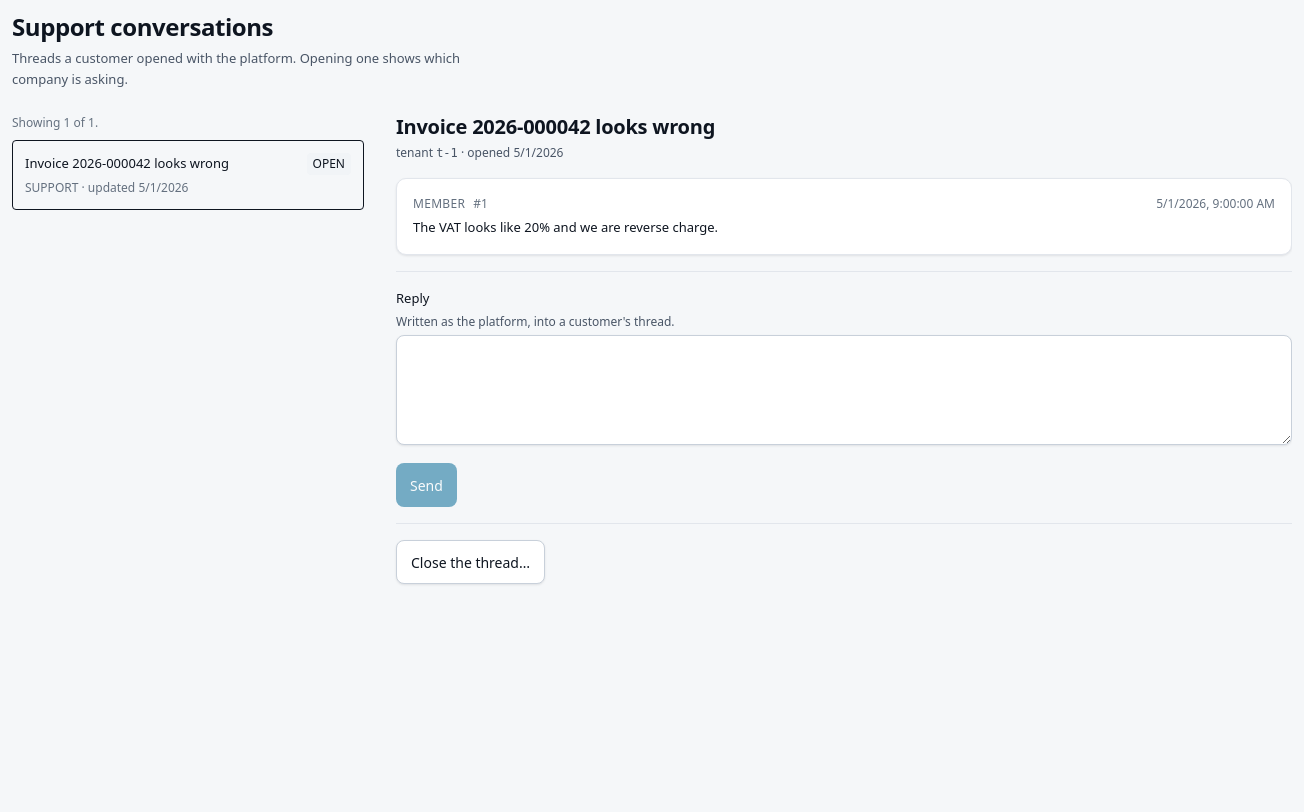
Test: closing › says what it does and does not do before doing it
Click the button "Close the thread…".
click(471, 562)  # box [396,540,545,584]
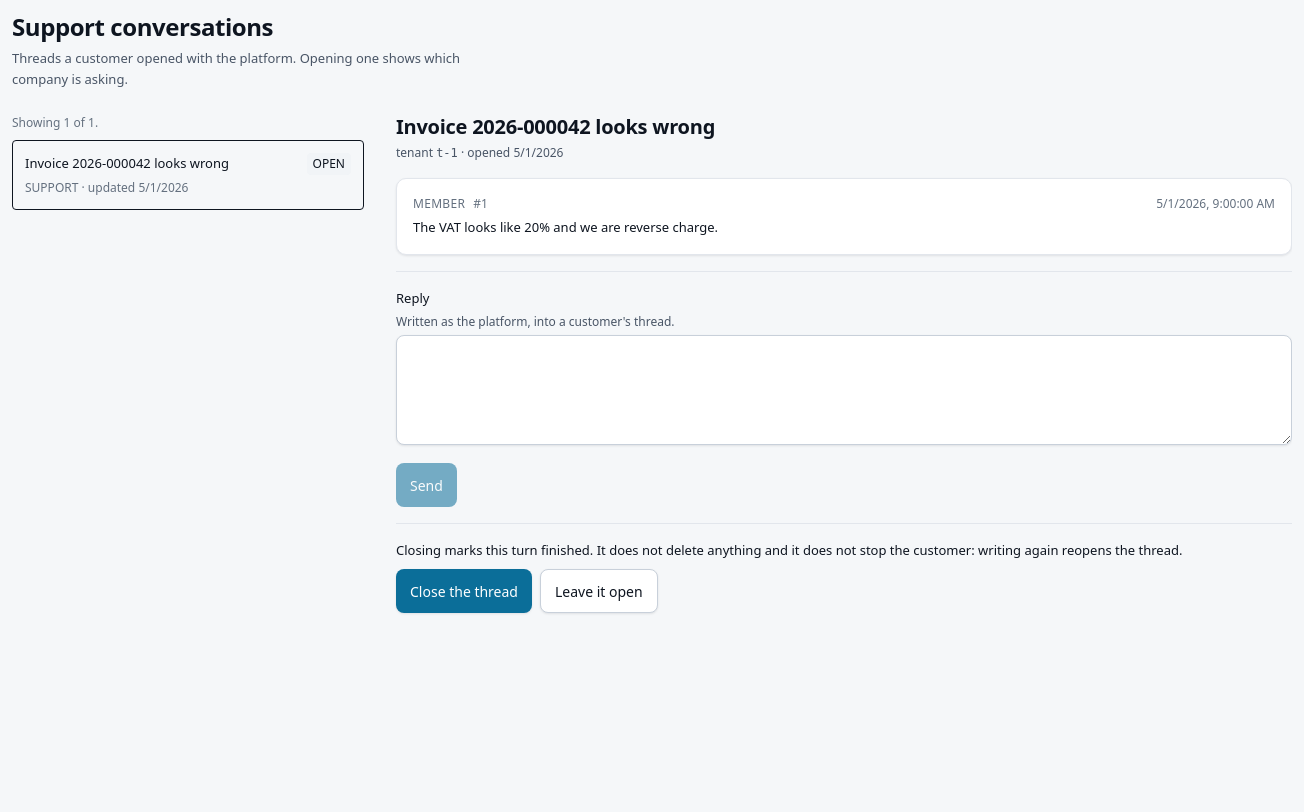
Expected: the element with test id "close-confirmation" shows "does not delete anything", [396,541,1182,559]
Expected: the element with test id "close-confirmation" shows "writing again reopens the thread", [396,541,1182,559]
